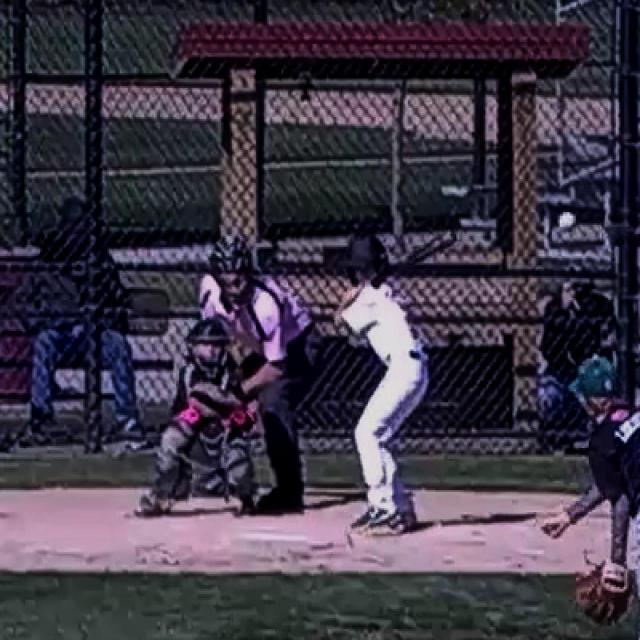baseball: (560, 212, 574, 228)
